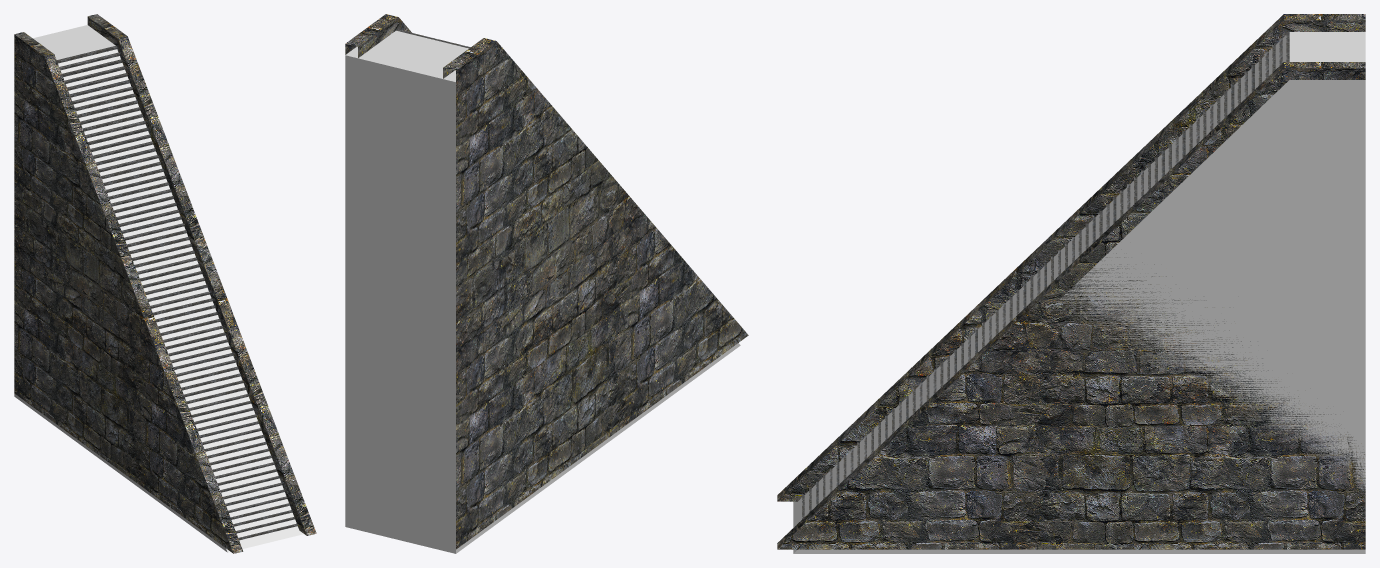
The model's file is AztecStair.FBX.
The picture shows the model from 3 angles, left to right: view 1: azimuth 30°, elevation 25°; view 2: azimuth 150°, elevation 25°; view 3: azimuth 270°, elevation 25°; orthographic projection. The views are drawn at different scales.
Parts seen in each view (by area): view 1: aztecStair, StairCube; view 2: aztecStair, StairCube; view 3: aztecStair, StairCube.
Part boxes in pixels (x1,y1,x2,y2): aztecStair: [14, 14, 316, 553]; StairCube: [14, 25, 303, 552]; aztecStair: [345, 14, 748, 549]; StairCube: [345, 30, 740, 553]; aztecStair: [777, 14, 1365, 549]; StairCube: [793, 32, 1365, 553].
Size of the model in its own units: 450 by 1873 by 2057.
